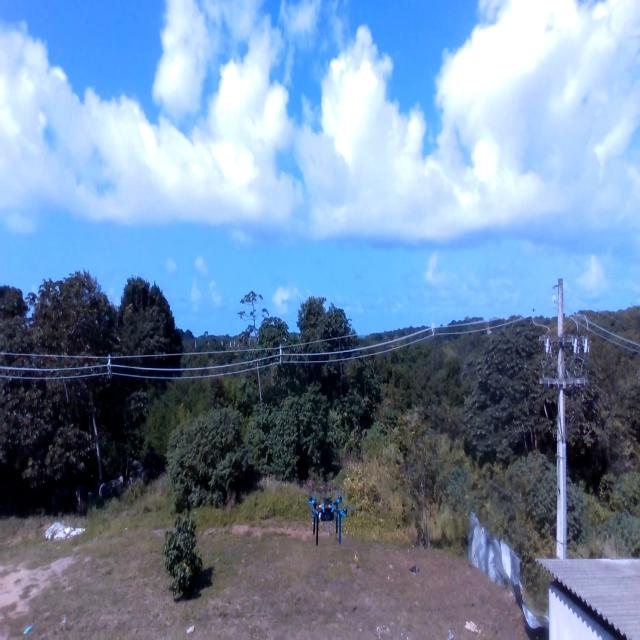-uav-: (302, 492, 358, 552)
